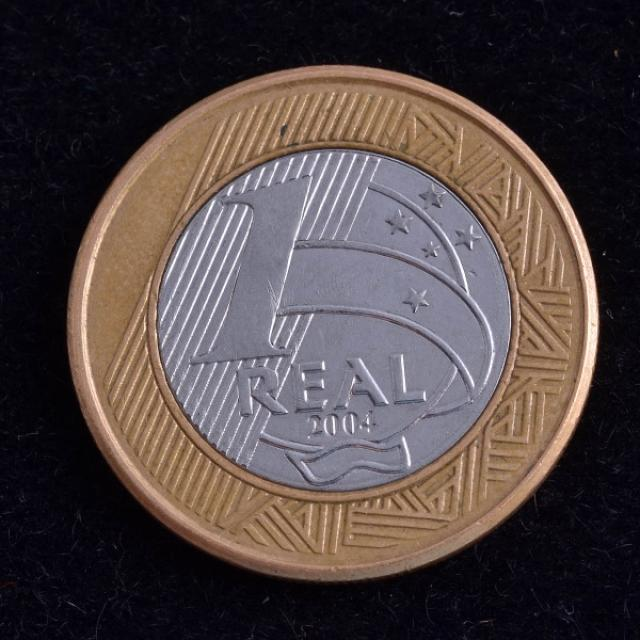1 real: (67, 64, 600, 582)
